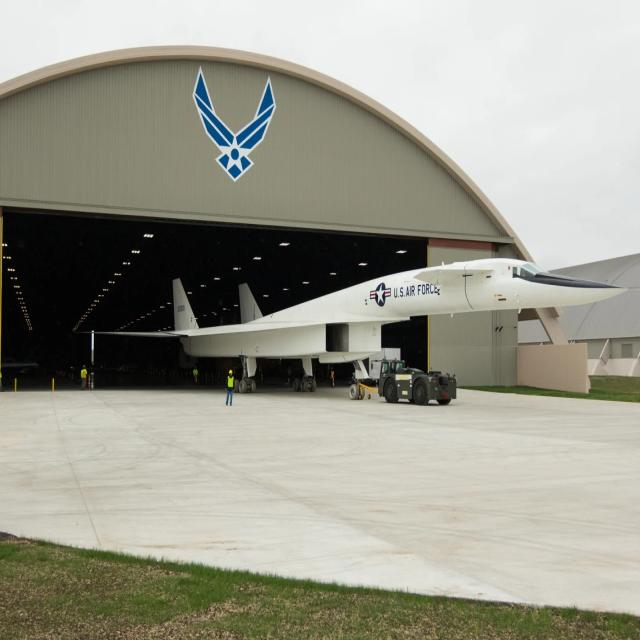MIL_Plane: (73, 258, 640, 400)
